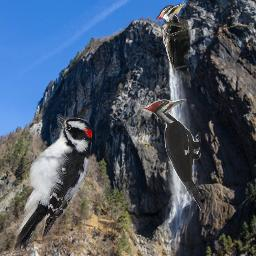Woodpecker: (12, 114, 92, 255), (143, 99, 201, 212), (156, 1, 191, 90)
